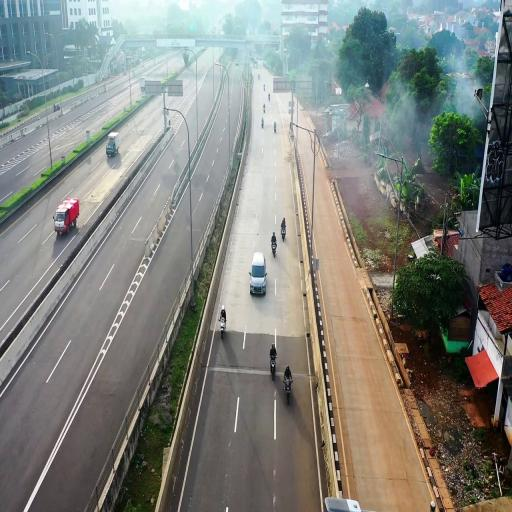vehicle: (249, 250, 267, 294), (106, 133, 120, 163)
